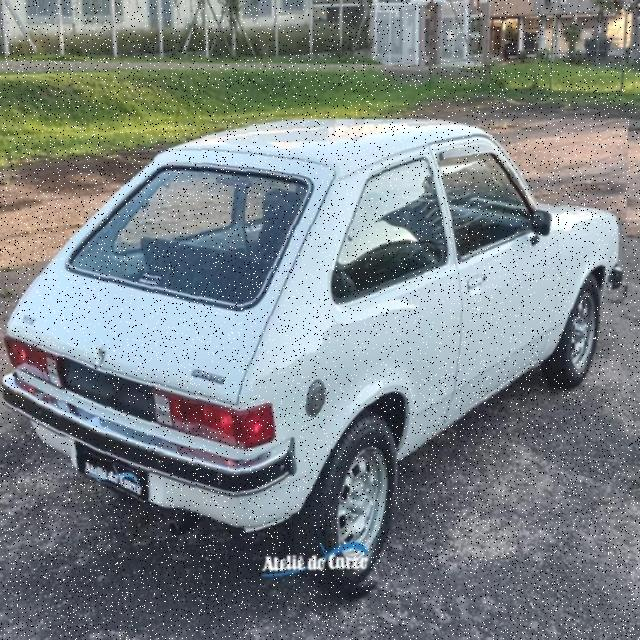car: (1, 120, 630, 595)
